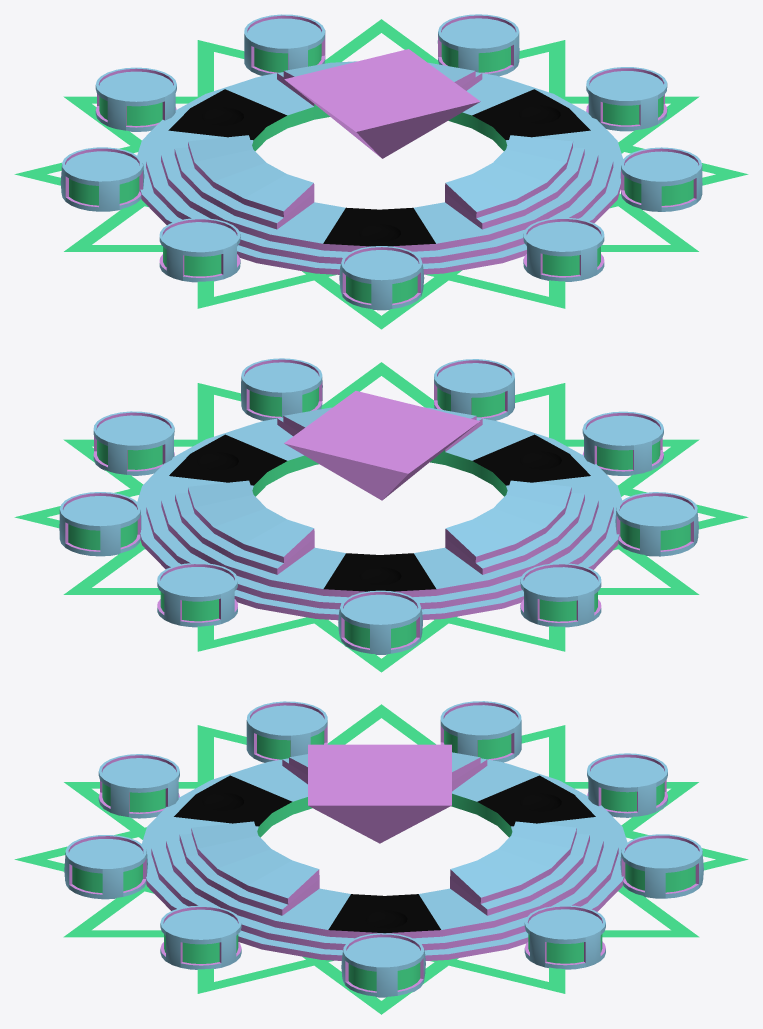
Rendered from Altar010.FBX.
The picture shows the model from 3 angles, top to bottom: view 1: azimuth 30°, elevation 25°; view 2: azimuth 150°, elevation 25°; view 3: azimuth 270°, elevation 25°; orthographic projection.
Visible parts, largest first — view 1: Altar007, Pyramid; view 2: Altar007, Pyramid; view 3: Altar007, Pyramid.
Boxes of the visible parts, x1,y1,x2,y2 form: Altar007: (14,14,748,329); Pyramid: (284,49,480,158); Altar007: (14,358,748,672); Pyramid: (284,391,479,500); Altar007: (14,701,748,1014); Pyramid: (308,744,451,843).
Size of the model in its own units: 55.91 by 7.15 by 55.91.
